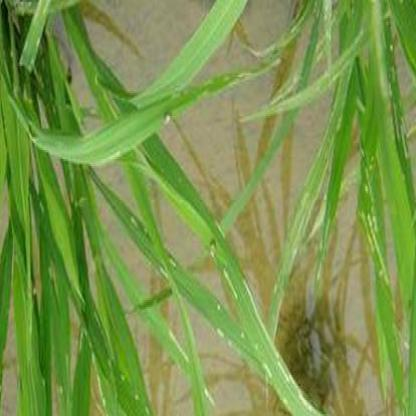rice-bug: (206, 238, 221, 260), (162, 108, 172, 129)
